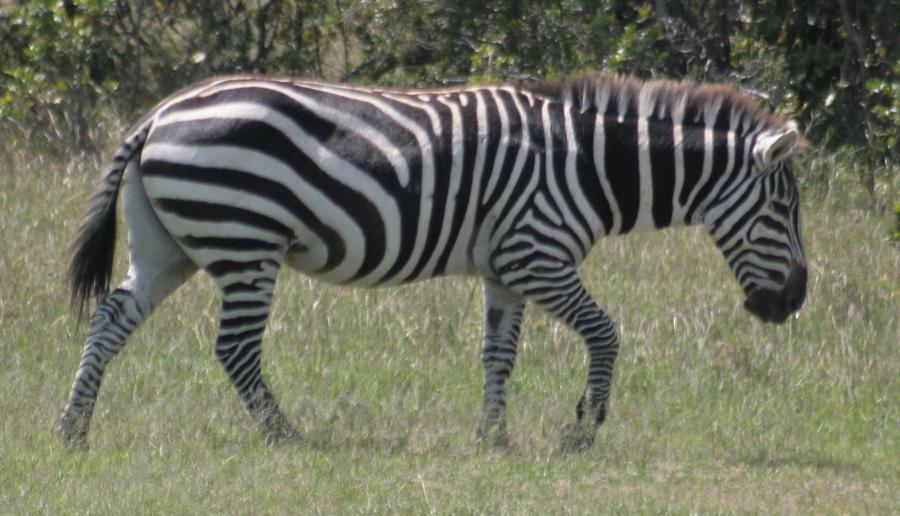zebra_plains: (150, 48, 580, 314)
